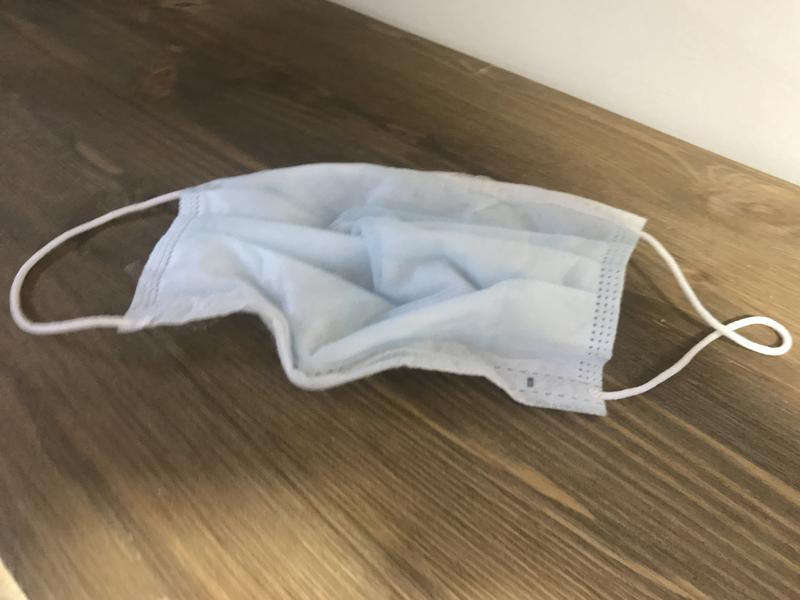medical_mask: (12, 160, 800, 412)
